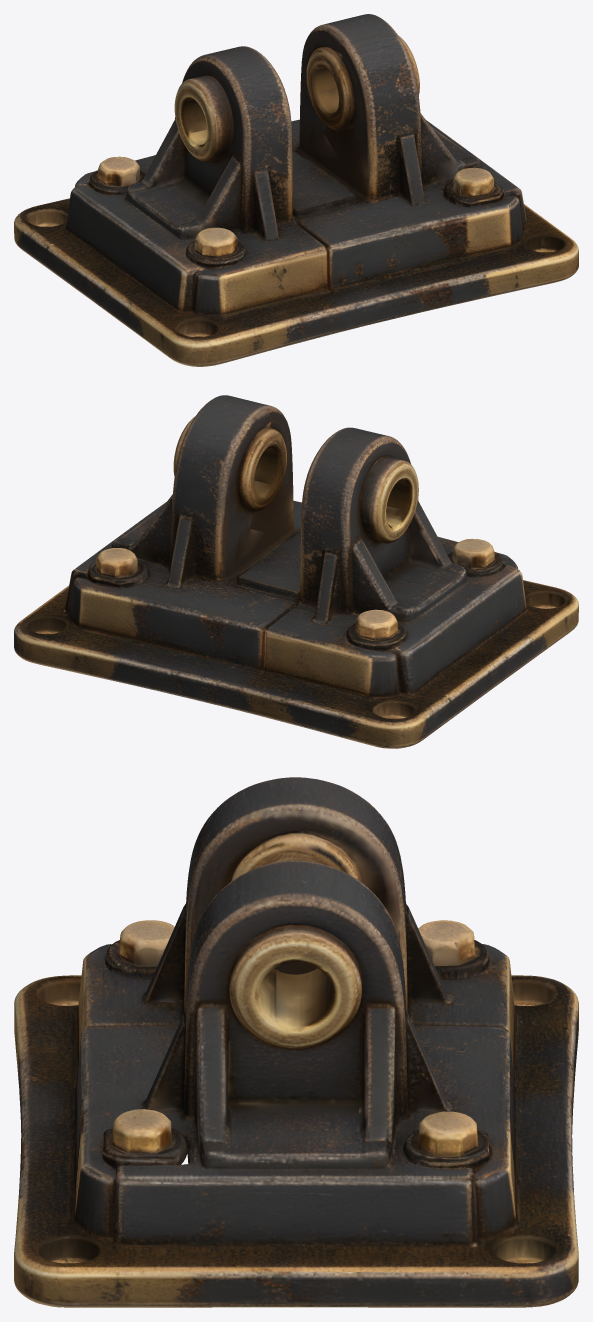
File: level_handler.glb
3 views of the same model, one above another, from view 1: azimuth 30°, elevation 25°; view 2: azimuth 150°, elevation 25°; view 3: azimuth 270°, elevation 25° (orthographic). The views are drawn at different scales.
Visible parts, largest first — view 1: Mesh_0; view 2: Mesh_0; view 3: Mesh_0.
Part boxes in pixels (left/top/right/bottom): Mesh_0: left=14, top=14, right=578, bottom=366; Mesh_0: left=14, top=395, right=578, bottom=748; Mesh_0: left=14, top=777, right=578, bottom=1307.
Size of the model in its own units: 0.9116 by 0.4695 by 0.7283.
1 material, 1 textured.
